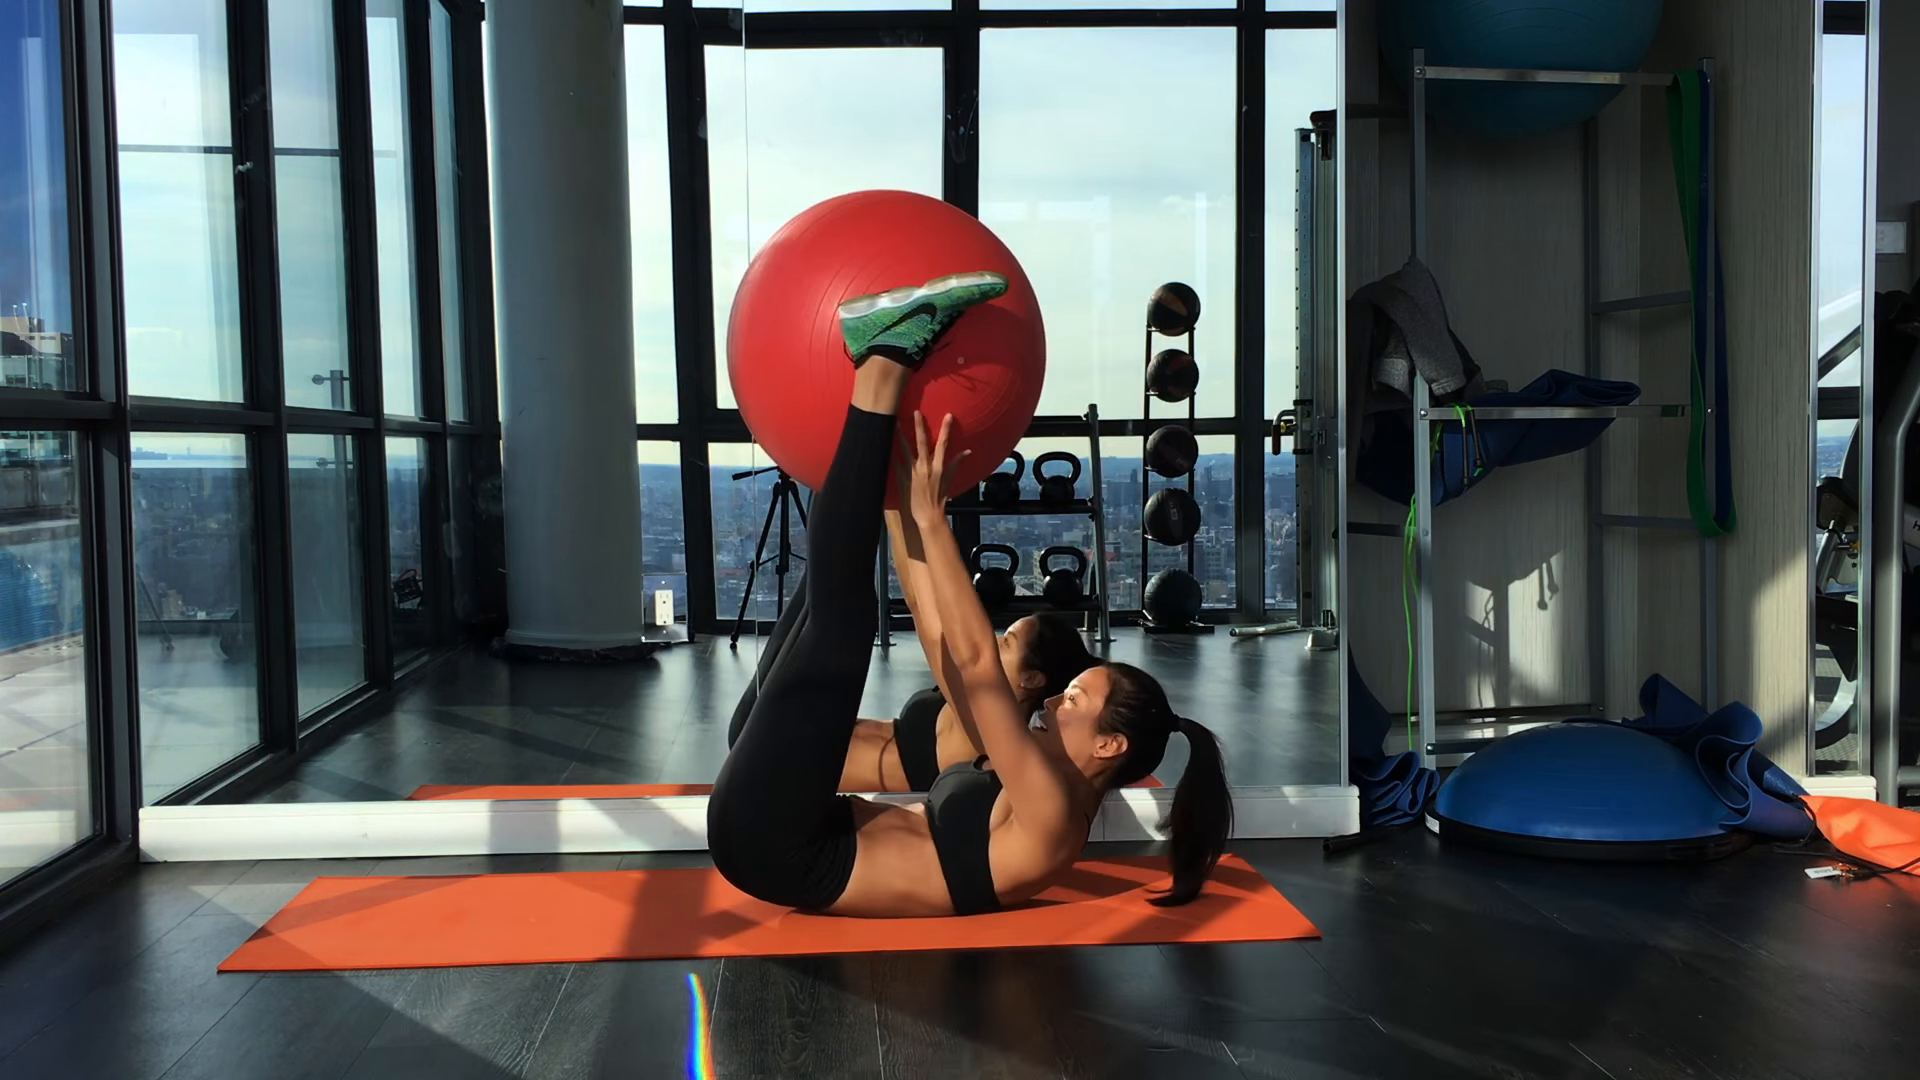yogaball: (719, 181, 1062, 516)
